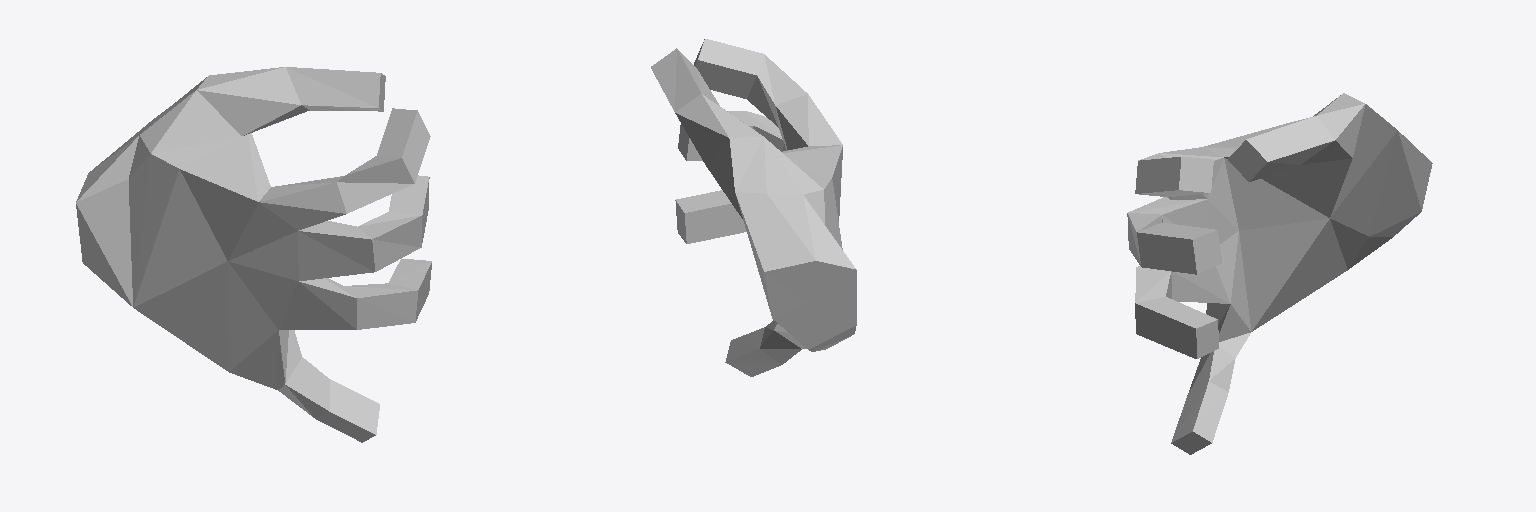
Rendered from Flute_RightHand00.obj.
3 renders of one model, left to right at view 1: azimuth 30°, elevation 25°; view 2: azimuth 150°, elevation 25°; view 3: azimuth 270°, elevation 25°, orthographic.
Parts seen in each view (by area): view 1: Converted object 0; view 2: Converted object 0; view 3: Converted object 0.
Boxes of the visible parts, x1,y1,x2,y2 form: Converted object 0: [76, 67, 431, 442]; Converted object 0: [651, 39, 856, 376]; Converted object 0: [1127, 93, 1432, 454].
Bounding box in the file's own units: 4.19 × 5.03 × 4.12.